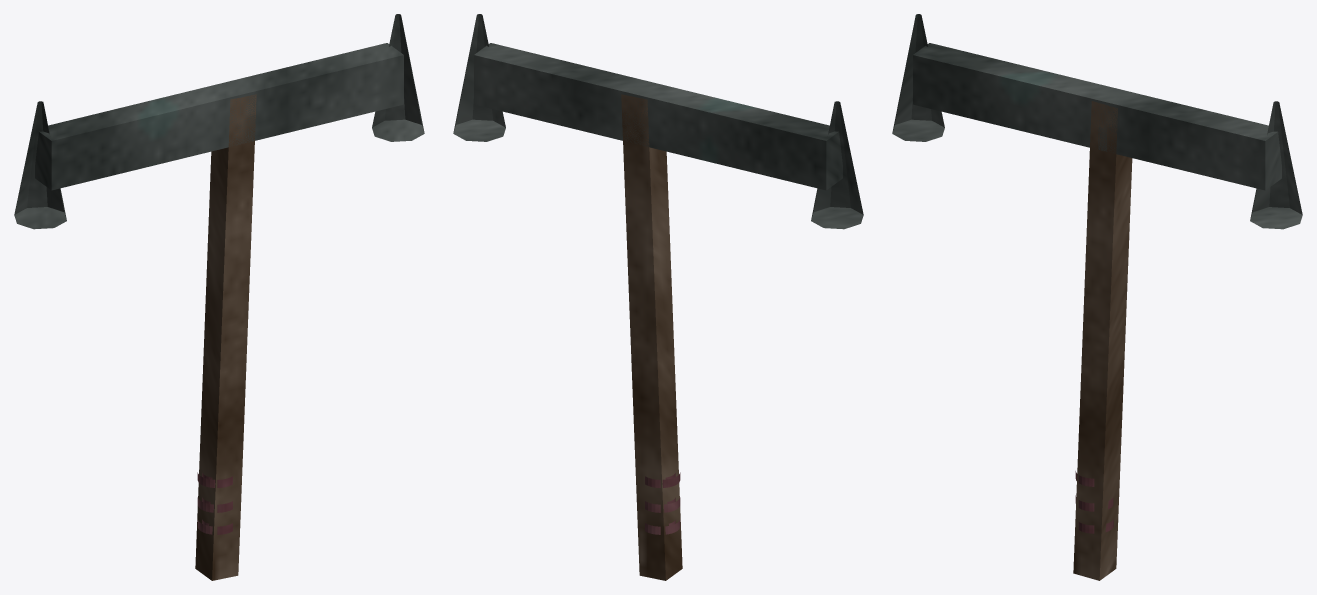
The model's file is 0853_pickaxe_03.glb.
The picture shows the model from 3 angles, left to right: view 1: azimuth 30°, elevation 25°; view 2: azimuth 150°, elevation 25°; view 3: azimuth 330°, elevation 25°; orthographic projection.
Visible parts, largest first — view 1: iron, wood, cloth; view 2: iron, wood, cloth; view 3: iron, wood, cloth.
Boxes of the visible parts, x1=… form: iron: x1=14, y1=14, x2=424, y2=229; wood: x1=195, y1=94, x2=256, y2=580; cloth: x1=197, y1=472, x2=232, y2=534; iron: x1=453, y1=14, x2=863, y2=229; wood: x1=621, y1=94, x2=682, y2=580; cloth: x1=645, y1=472, x2=680, y2=534; iron: x1=892, y1=14, x2=1302, y2=229; wood: x1=1073, y1=101, x2=1132, y2=580; cloth: x1=1075, y1=471, x2=1113, y2=533.
Size of the model in its own units: 1.54 by 1.86 by 0.18.
3 materials, 3 textured.
